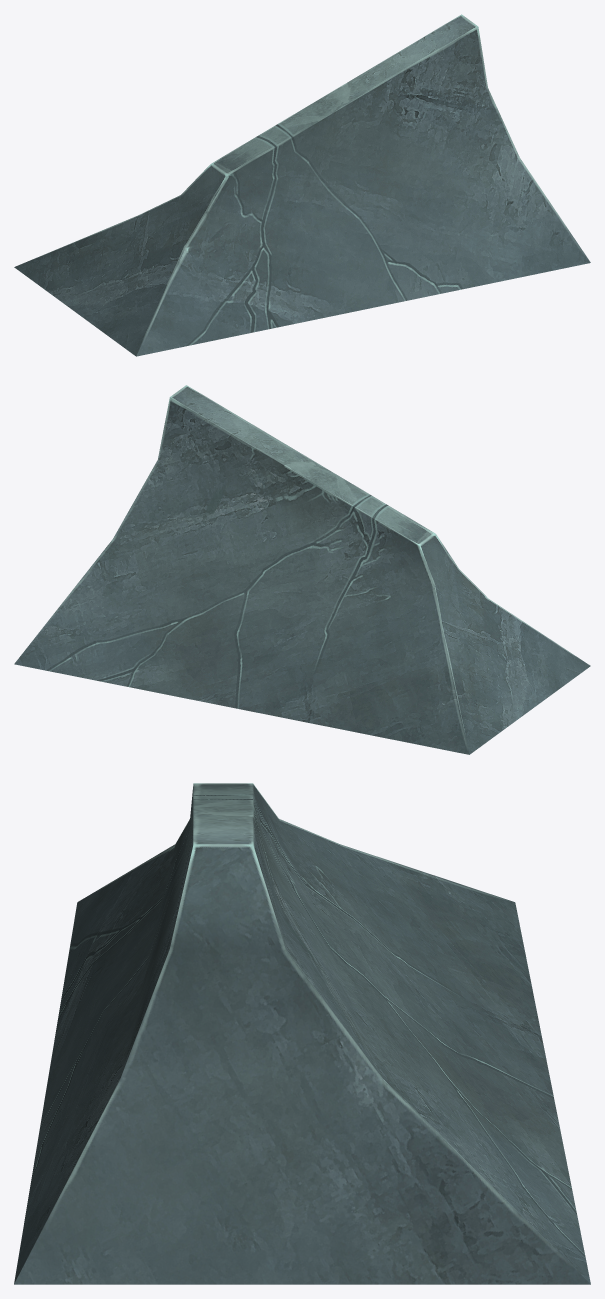
File: Rock_2.fbx
3 renders of one model, top to bottom at view 1: azimuth 30°, elevation 25°; view 2: azimuth 150°, elevation 25°; view 3: azimuth 270°, elevation 25°, orthographic. The views are drawn at different scales.
Visible parts, largest first — view 1: pPlane6; view 2: pPlane6; view 3: pPlane6.
Part boxes in pixels (x1,y1,x2,y2): pPlane6: (14, 14, 590, 356); pPlane6: (14, 385, 590, 754); pPlane6: (14, 783, 590, 1284).
Bounding box in the file's own units: 6.87 × 3.23 × 4.38.
